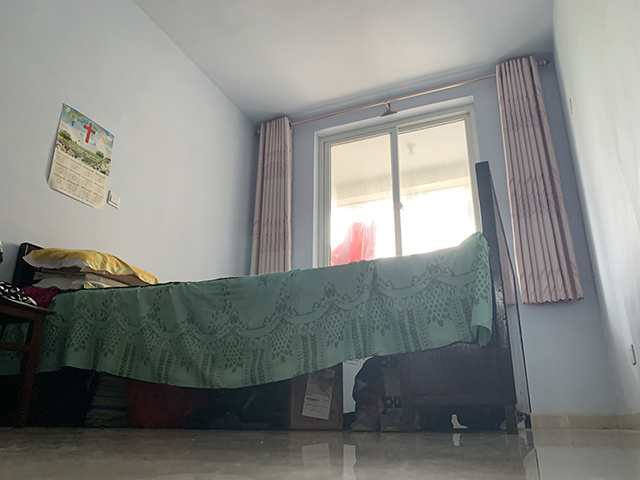bed: (11, 160, 534, 434)
curtain: (493, 52, 596, 307), (250, 116, 295, 275)
slippers: (191, 409, 274, 431)
